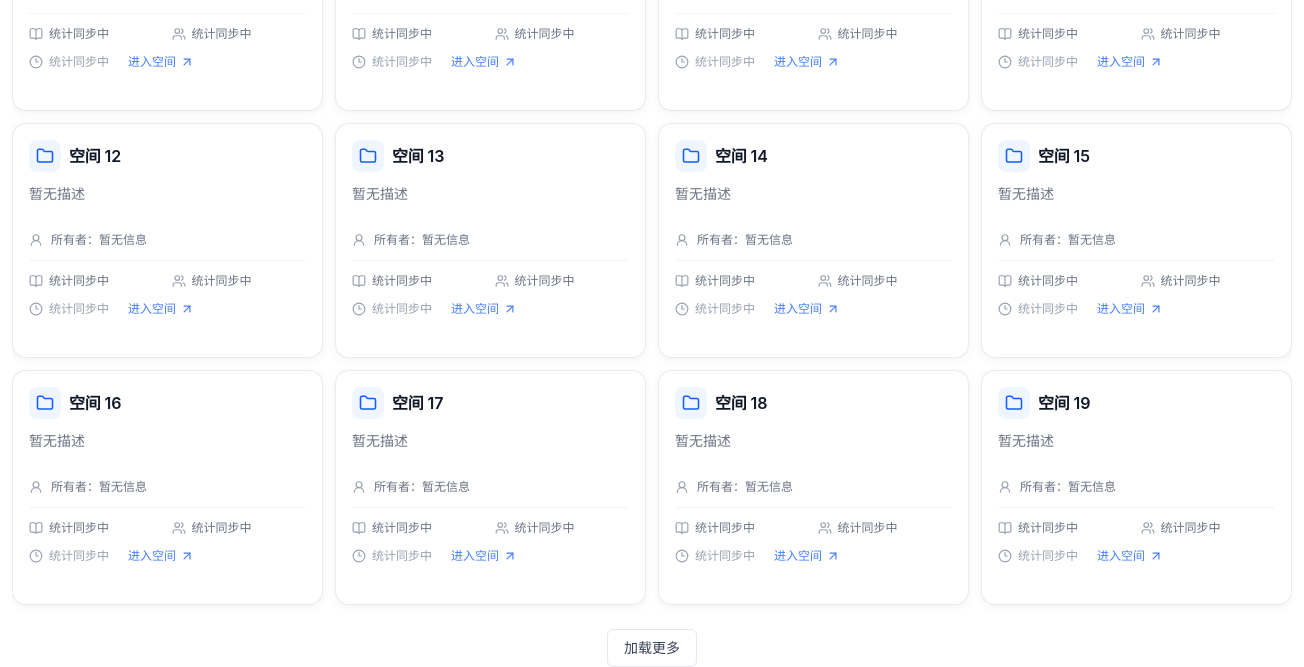
Dashboard Space pagination and creation › uses the server cursor and replaces the page when its revision requires a reset
(page scrolled)
What coordinates should you click on to do the following:
click the button "加载更多"
I would click on:
 (652, 648)
Its box is [607,629,697,666].
(page scrolled)
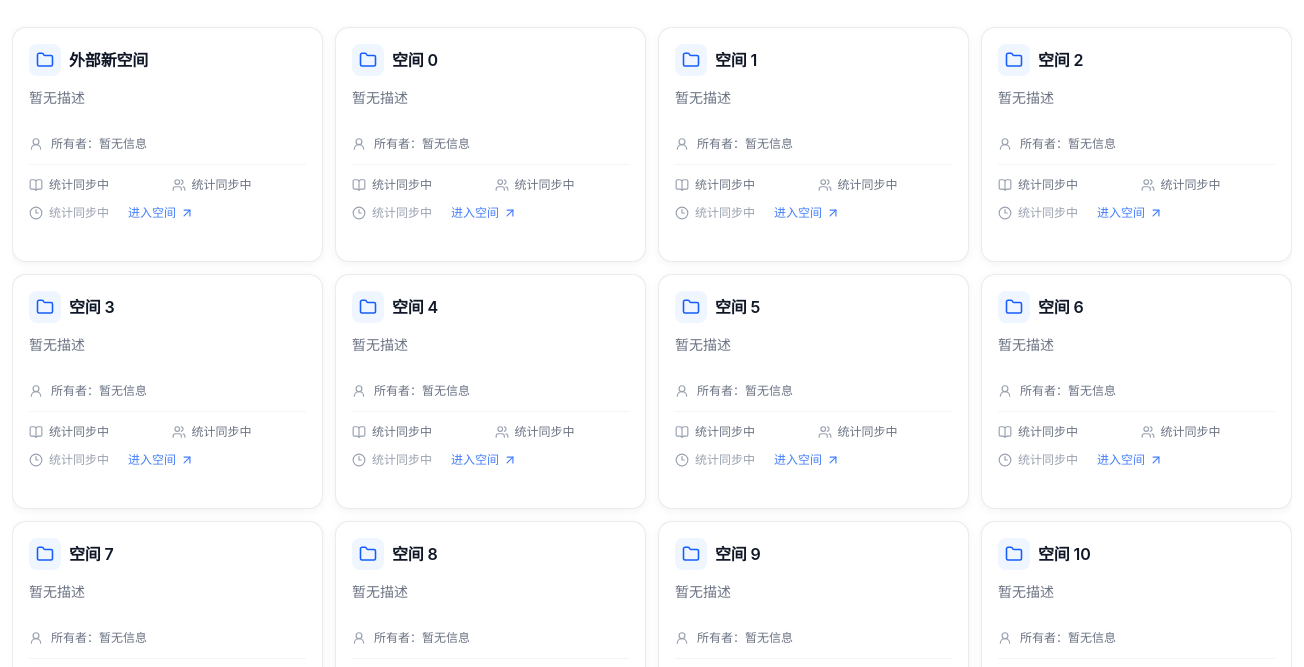
Check: the heading "外部新空间" is shown, box [69,48,148,72]
